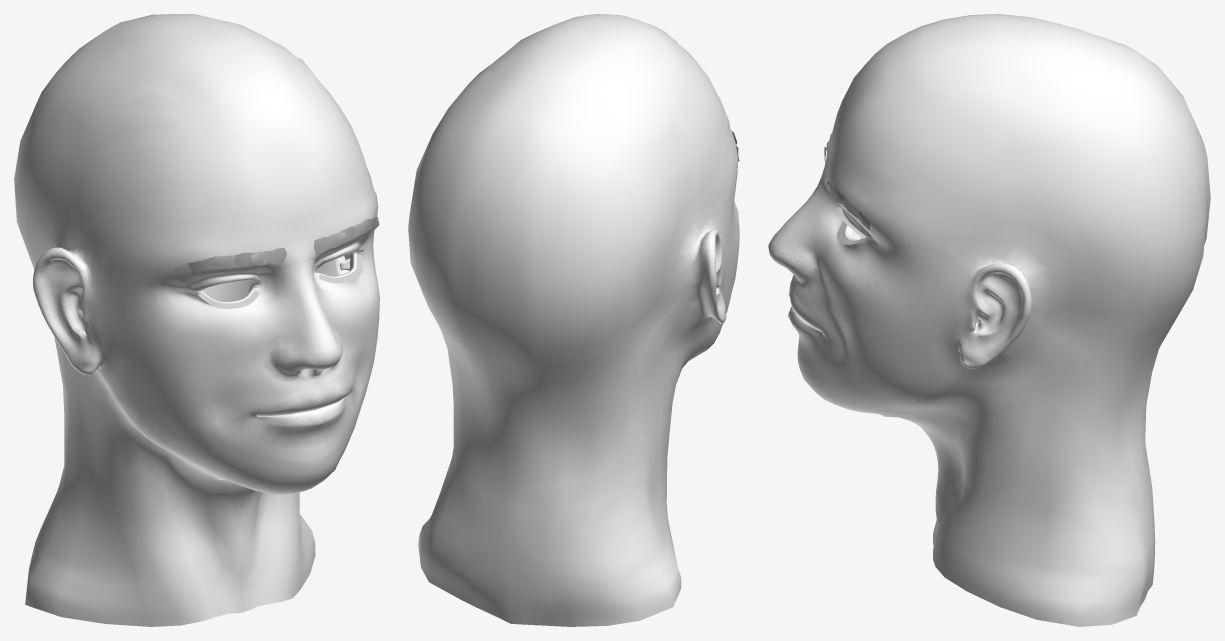
Rendered from cheekSquintRight.obj.
3 renders of one model, left to right at view 1: azimuth 30°, elevation 25°; view 2: azimuth 150°, elevation 25°; view 3: azimuth 270°, elevation 25°, orthographic. The views are drawn at different scales.
Visible parts, largest first — view 1: FaceMesh_Plane.003; view 2: FaceMesh_Plane.003; view 3: FaceMesh_Plane.003.
Boxes of the visible parts, bbox=[...] form: FaceMesh_Plane.003: bbox=[14, 14, 379, 626]; FaceMesh_Plane.003: bbox=[408, 14, 739, 626]; FaceMesh_Plane.003: bbox=[768, 14, 1210, 626].
Size of the model in its own units: 1.54 by 2.71 by 1.94.
5 materials, 1 textured.
